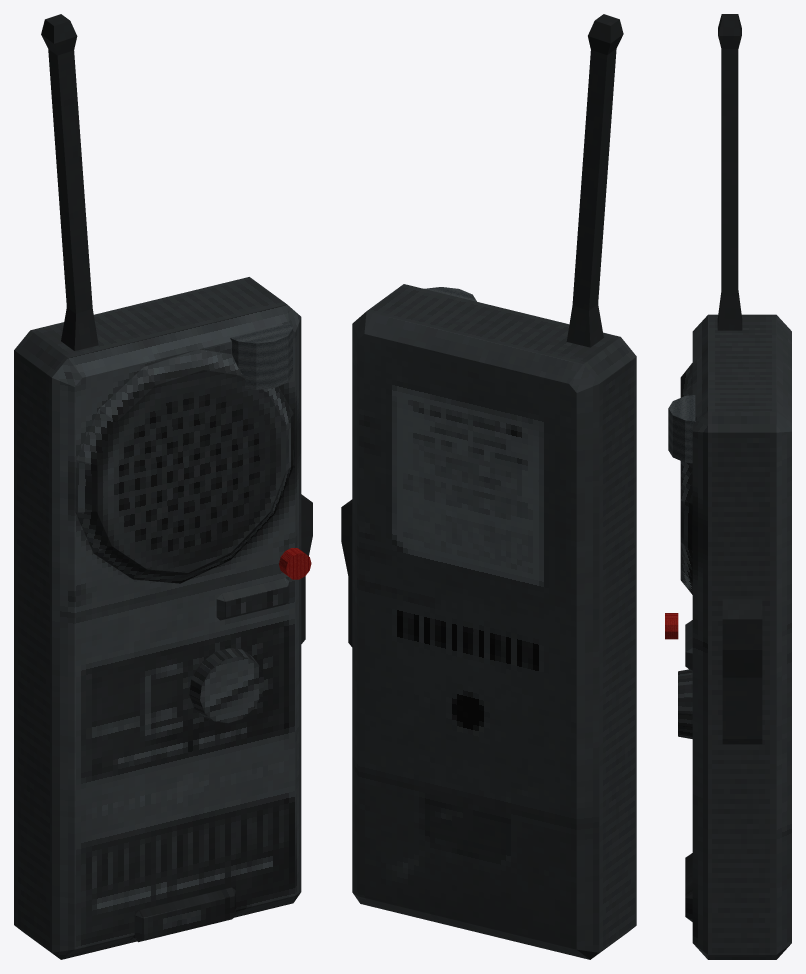
File: blender_spirit_box_3.glb
3 renders of one model, left to right at view 1: azimuth 30°, elevation 25°; view 2: azimuth 150°, elevation 25°; view 3: azimuth 270°, elevation 25°, orthographic. The views are drawn at different scales.
Visible parts, largest first — view 1: blender_spirit_box_3; view 2: blender_spirit_box_3; view 3: blender_spirit_box_3.
Boxes of the visible parts, left/top/right/bottom form: blender_spirit_box_3: left=14, top=14, right=312, bottom=959; blender_spirit_box_3: left=341, top=14, right=636, bottom=959; blender_spirit_box_3: left=665, top=14, right=791, bottom=959.
Size of the model in its own units: 0.0848 by 0.28 by 0.0381.
Materials: 3 (3 with a texture image).
